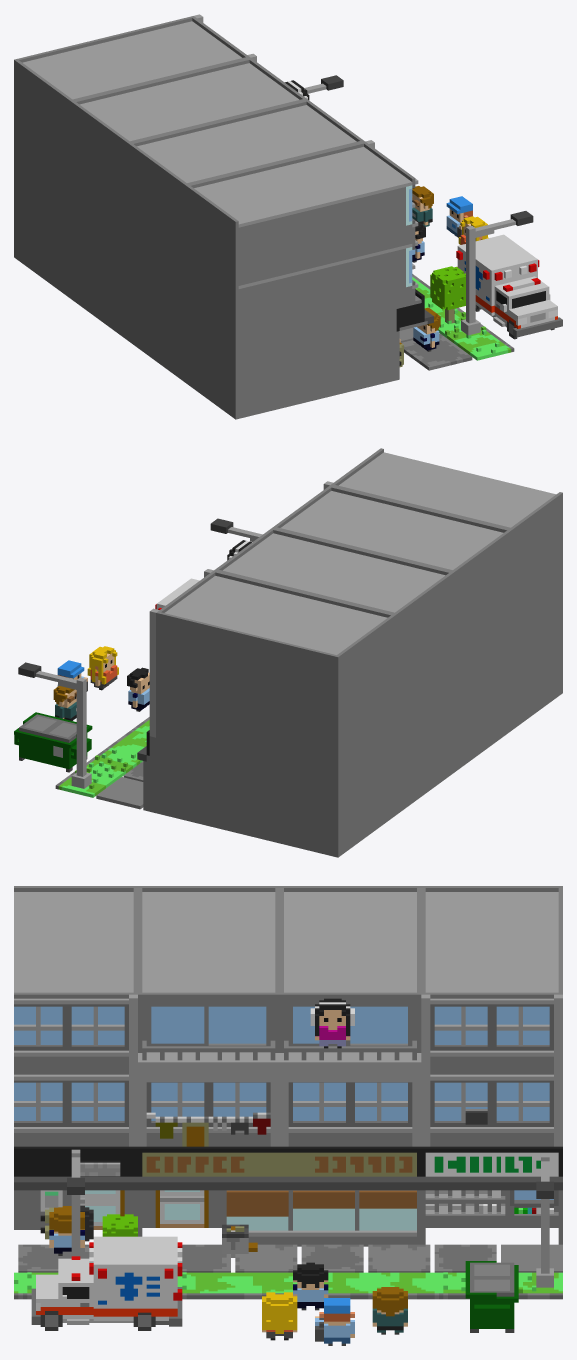
The model's file is scene_store8.obj.
3 renders of one model, top to bottom at view 1: azimuth 30°, elevation 25°; view 2: azimuth 150°, elevation 25°; view 3: azimuth 270°, elevation 25°, orthographic. The views are drawn at different scales.
Bounding box in the file's own units: 11.7 × 6.1 × 12.4.
Materials: 1 (1 with a texture image).
